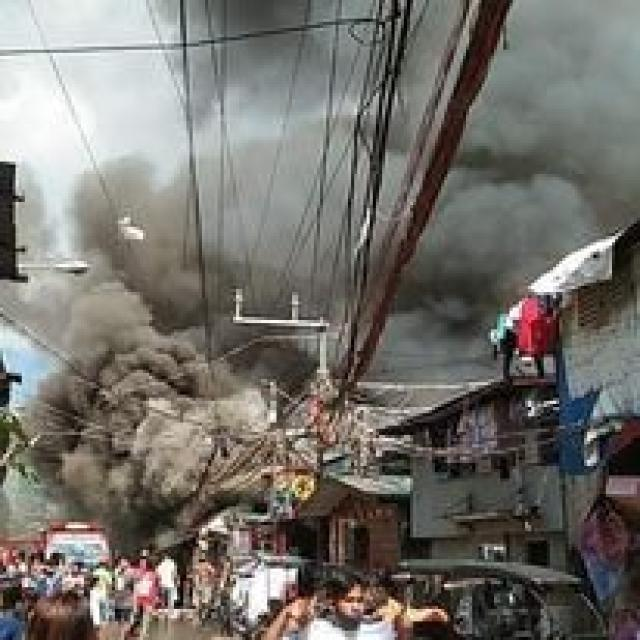Smoke: (87, 0, 640, 347), (36, 352, 284, 560)
